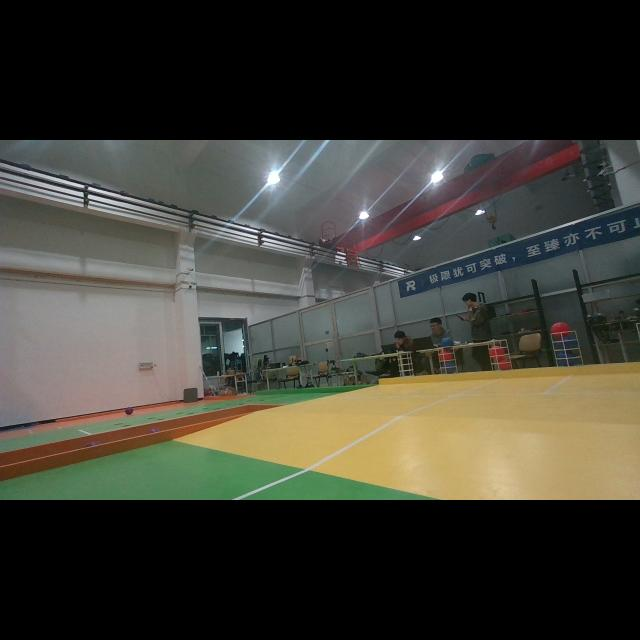S: (550, 328, 586, 368), (488, 336, 512, 372), (394, 351, 416, 383), (438, 346, 458, 374)
